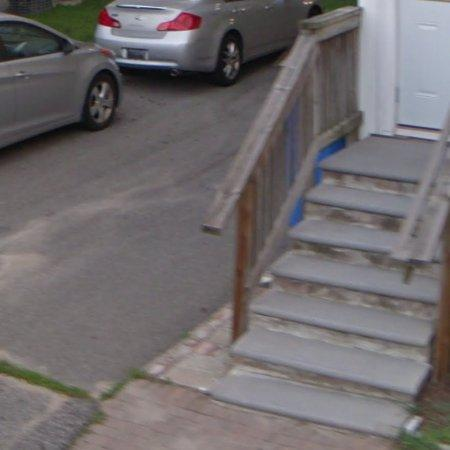stairs: (211, 137, 441, 438)
